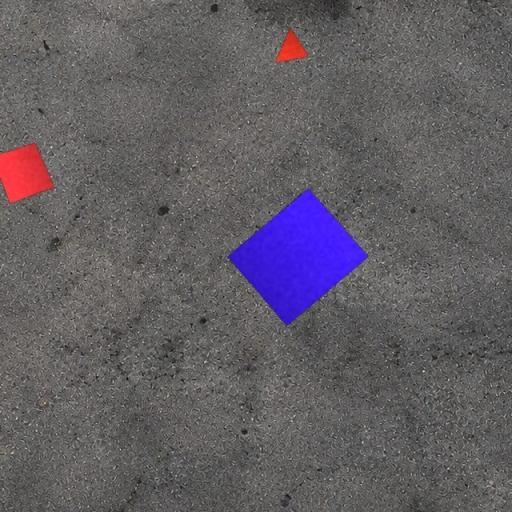BLUE_SQUARE: (227, 187, 370, 327)
RED_SQUARE: (0, 142, 55, 204)
